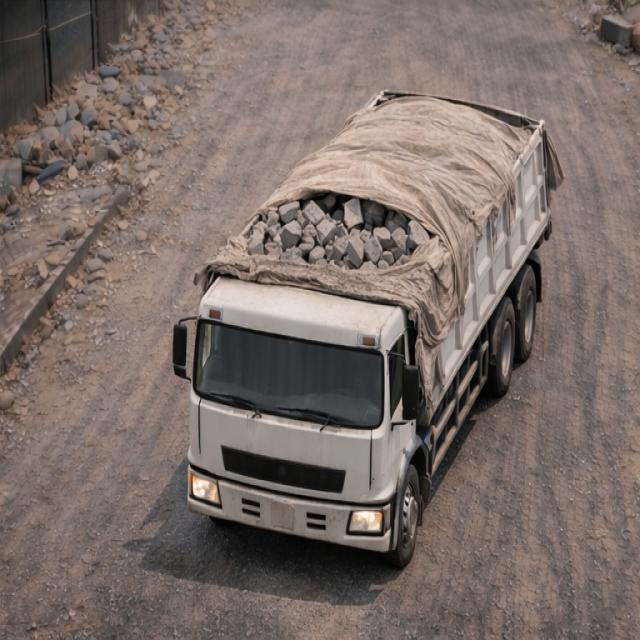Box: (221, 90, 548, 306)
Truck: (170, 77, 573, 564)
